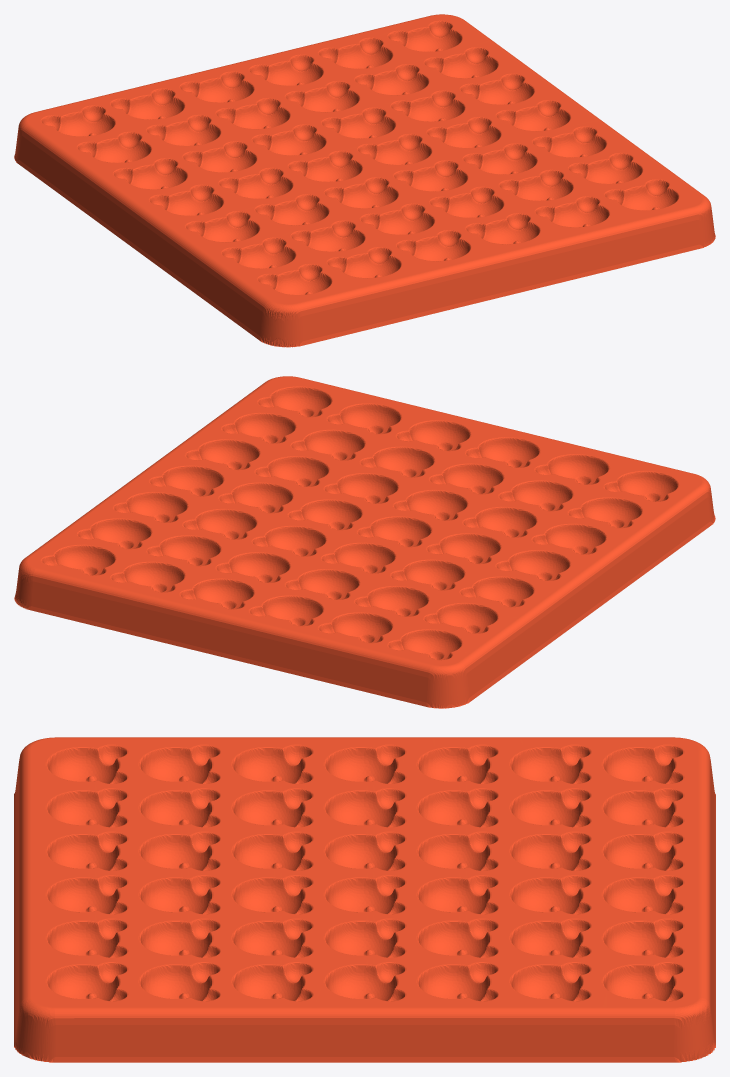
The model's file is mold.glb.
3 views of the same model, one above another, from view 1: azimuth 30°, elevation 25°; view 2: azimuth 150°, elevation 25°; view 3: azimuth 270°, elevation 25° (orthographic). The views are drawn at different scales.
Visible parts, largest first — view 1: geometry_0; view 2: geometry_0; view 3: geometry_0.
Part boxes in pixels (x1,y1,x2,y2): geometry_0: (14, 14, 715, 347); geometry_0: (14, 376, 715, 708); geometry_0: (14, 737, 715, 1062).
Size of the model in its own units: 0.1437 by 0.0113 by 0.1505.
